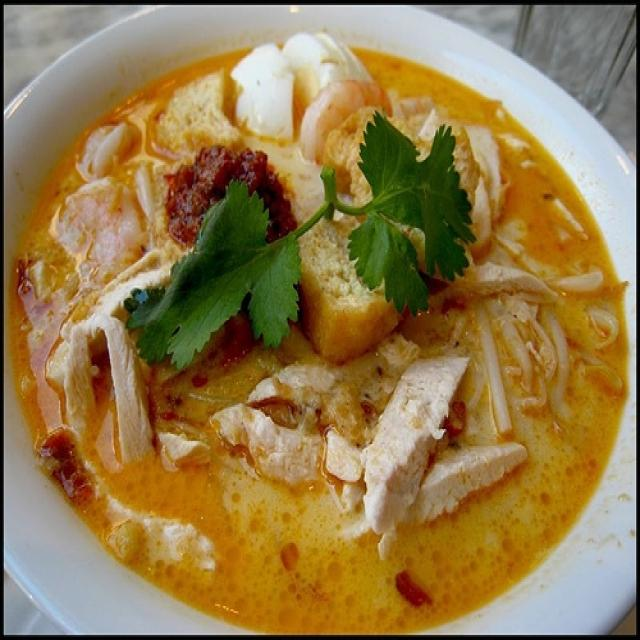面条主食: (23, 21, 623, 614)
